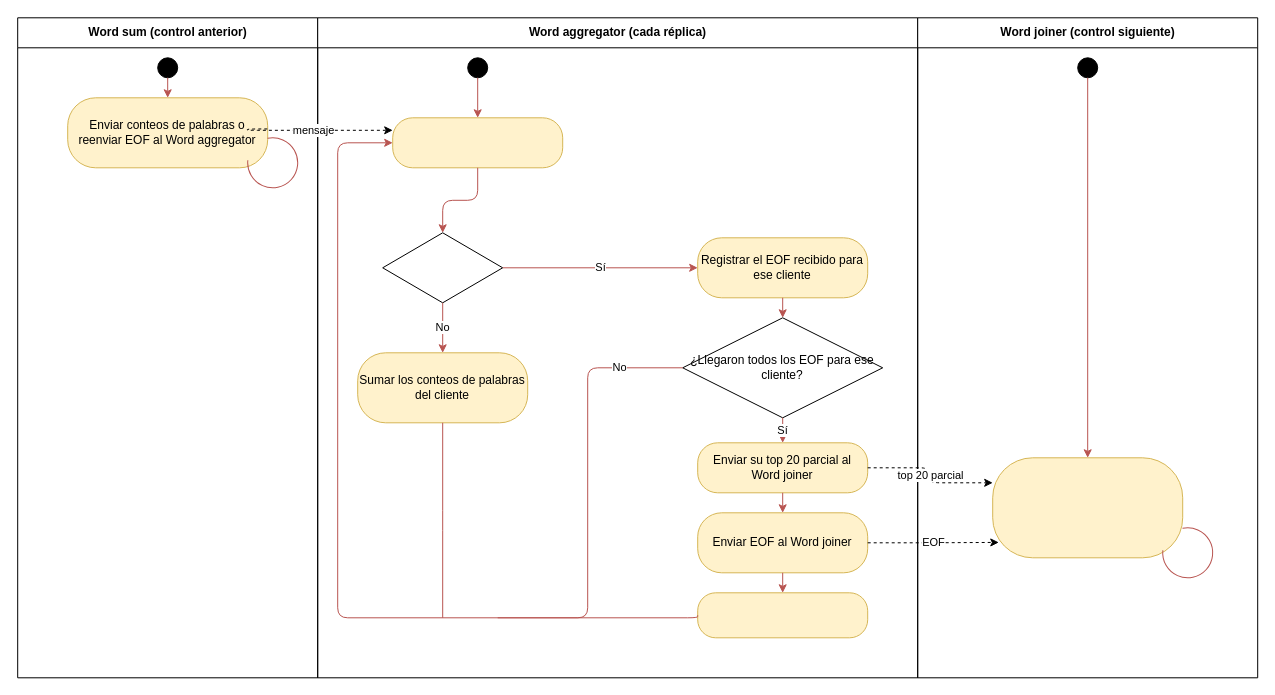
Image size: 1275x695. Some labels were removed from this diagram. The centre of each missing label's shape, as x and y in pixels:
"Consumir mensaje de su cola" belongs at point (477, 142).
"Consumir top 20 parciales y EOF" belongs at point (1087, 507).
"Liberar el estado del cliente" belongs at point (782, 615).
"¿Es EOF?" belongs at point (442, 267).
